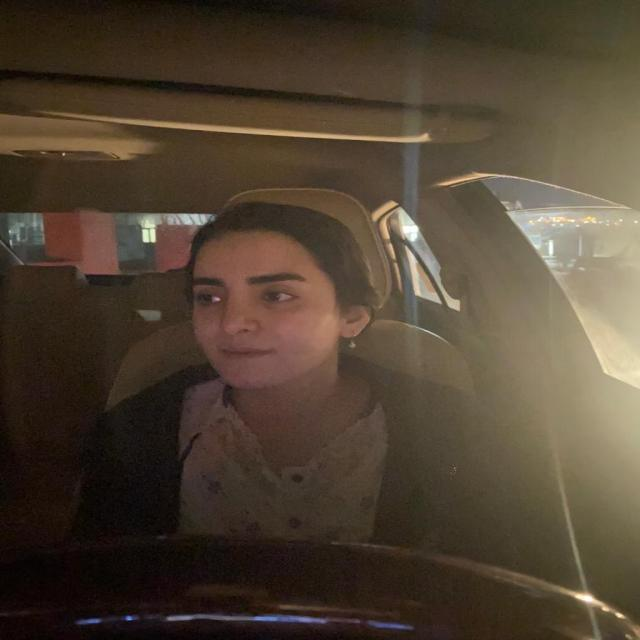person: (167, 195, 381, 408)
